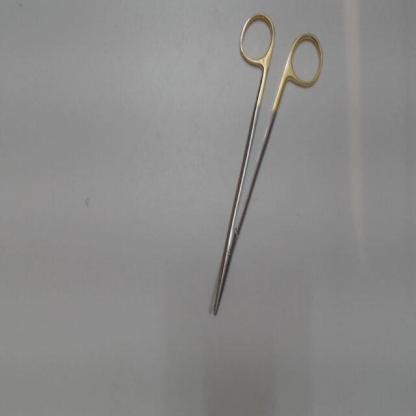7 Metzenbaum Scissors: (204, 7, 331, 321)
